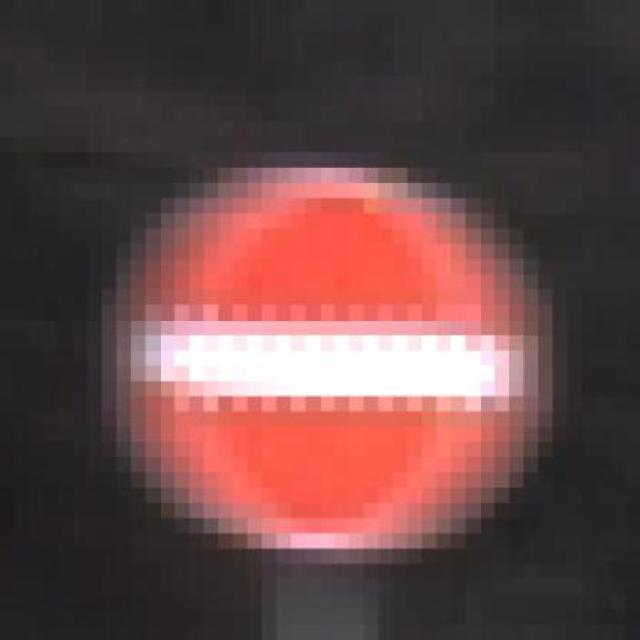B2: (105, 164, 535, 556)
